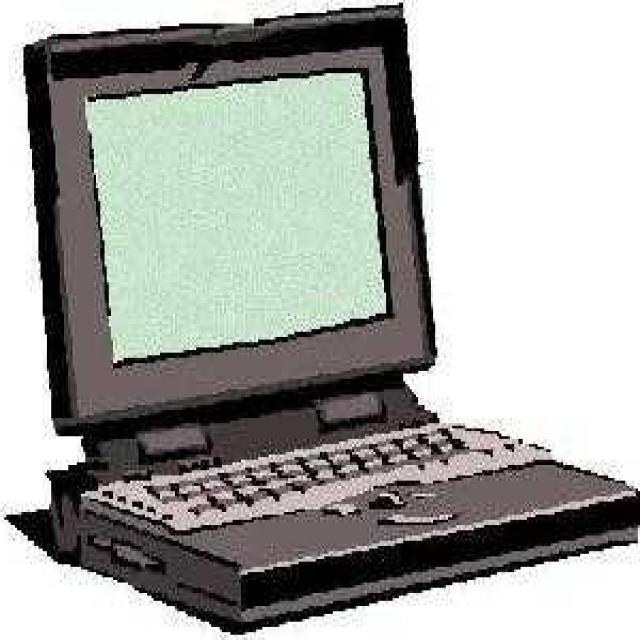laptop: (40, 3, 634, 606)
